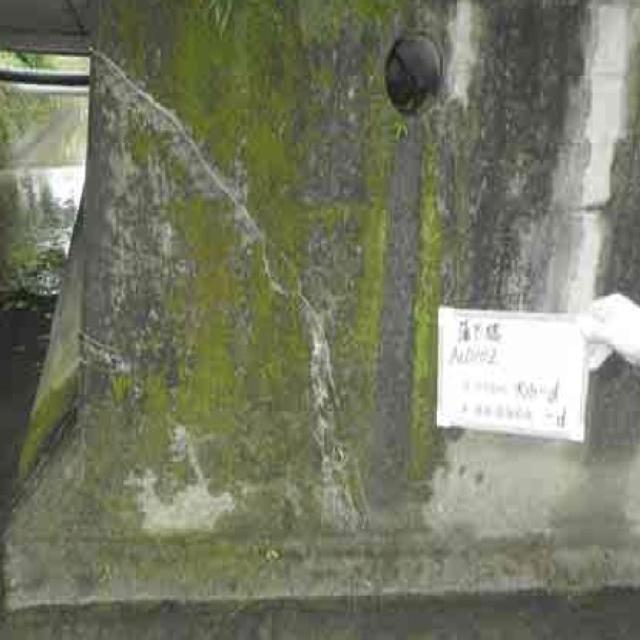freelime: (580, 10, 620, 269), (436, 6, 501, 104)
